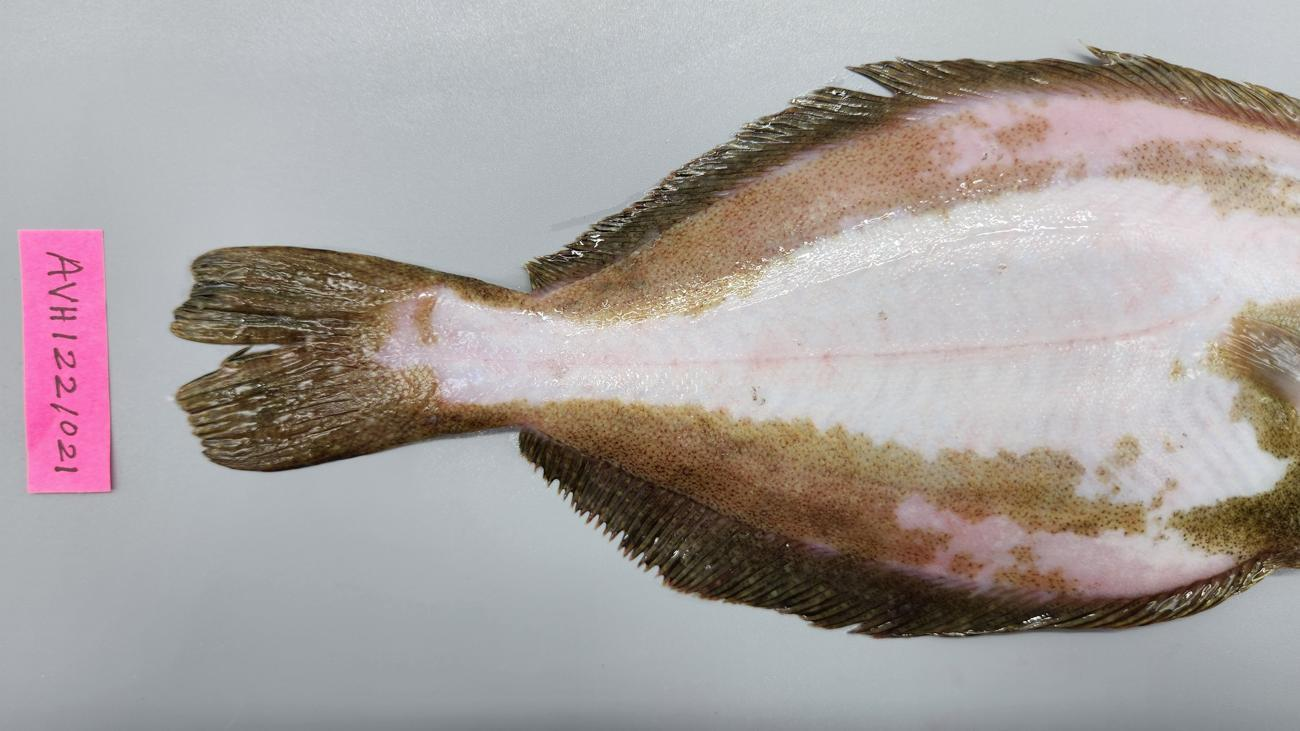VIDYH: (376, 92, 1293, 592)
VIFDH: (528, 233, 627, 290)
